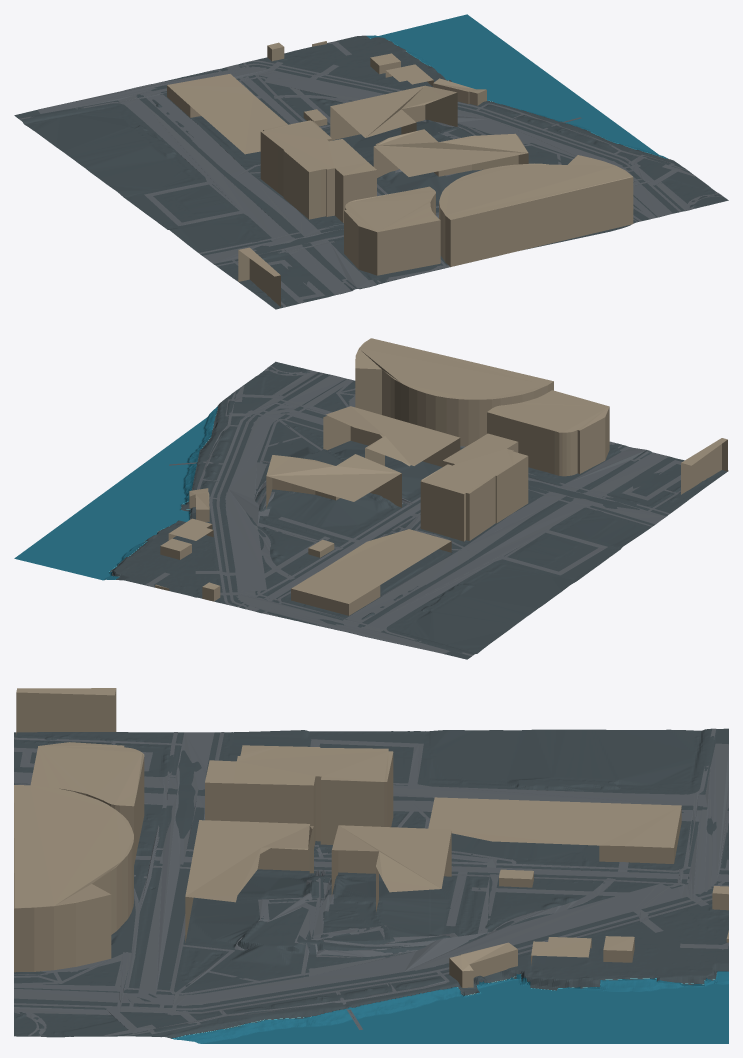
File: epsg26910-1442-10885.lod0.glb
3 renders of one model, top to bottom at view 1: azimuth 30°, elevation 25°; view 2: azimuth 150°, elevation 25°; view 3: azimuth 270°, elevation 25°, orthographic. The views are drawn at different scales.
Parts seen in each view (by area): view 1: epsg26910-1442-10885-lod0; view 2: epsg26910-1442-10885-lod0; view 3: epsg26910-1442-10885-lod0.
Part boxes in pixels (x1,y1,x2,y2): epsg26910-1442-10885-lod0: [14, 14, 728, 309]; epsg26910-1442-10885-lod0: [14, 338, 728, 659]; epsg26910-1442-10885-lod0: [14, 688, 728, 1043].
Size of the model in its own units: 384 by 44.26 by 384.
